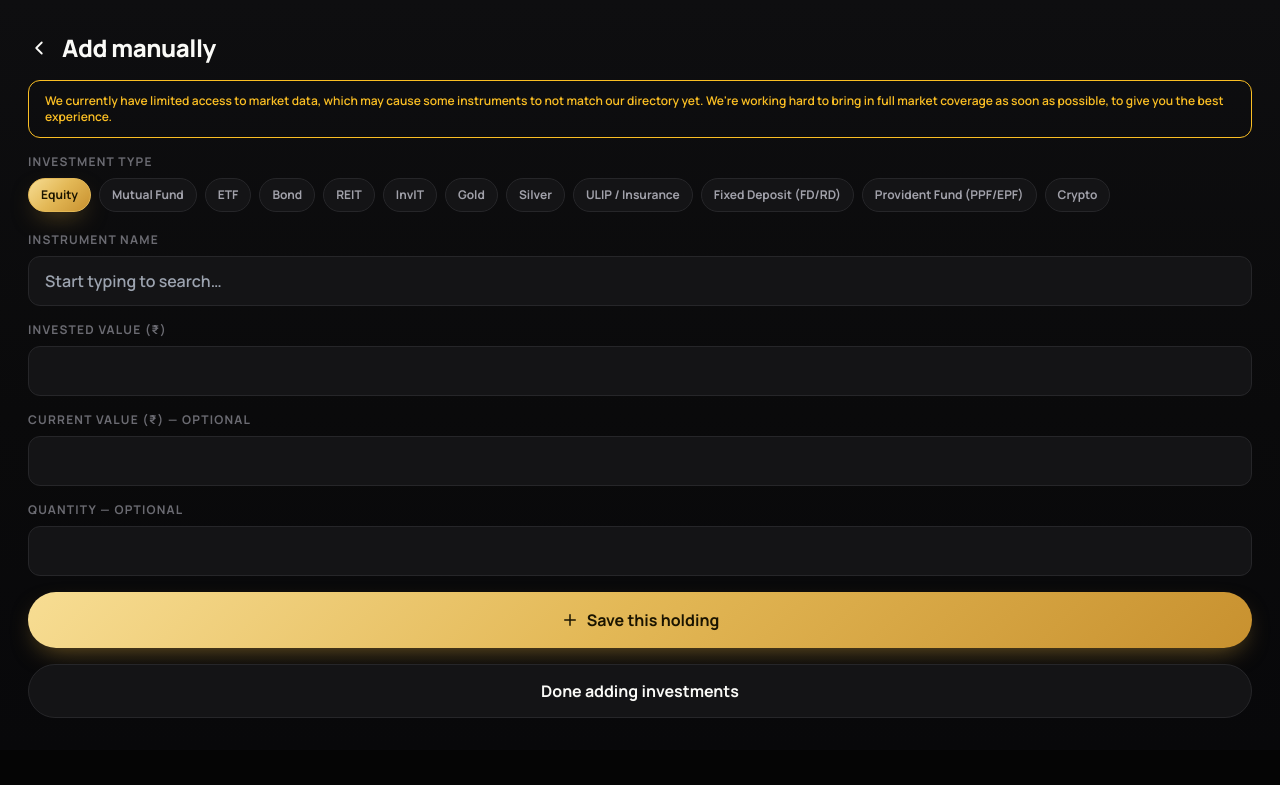
it: ManualEntry — PF (Provident Fund) › shows the PF asset-class option and switches to PF-specific fields when selected
The image size is (1280, 785).
Click the button with test id "asset-class-PF". click: (949, 195)
box: left=862, top=178, right=1036, bottom=212
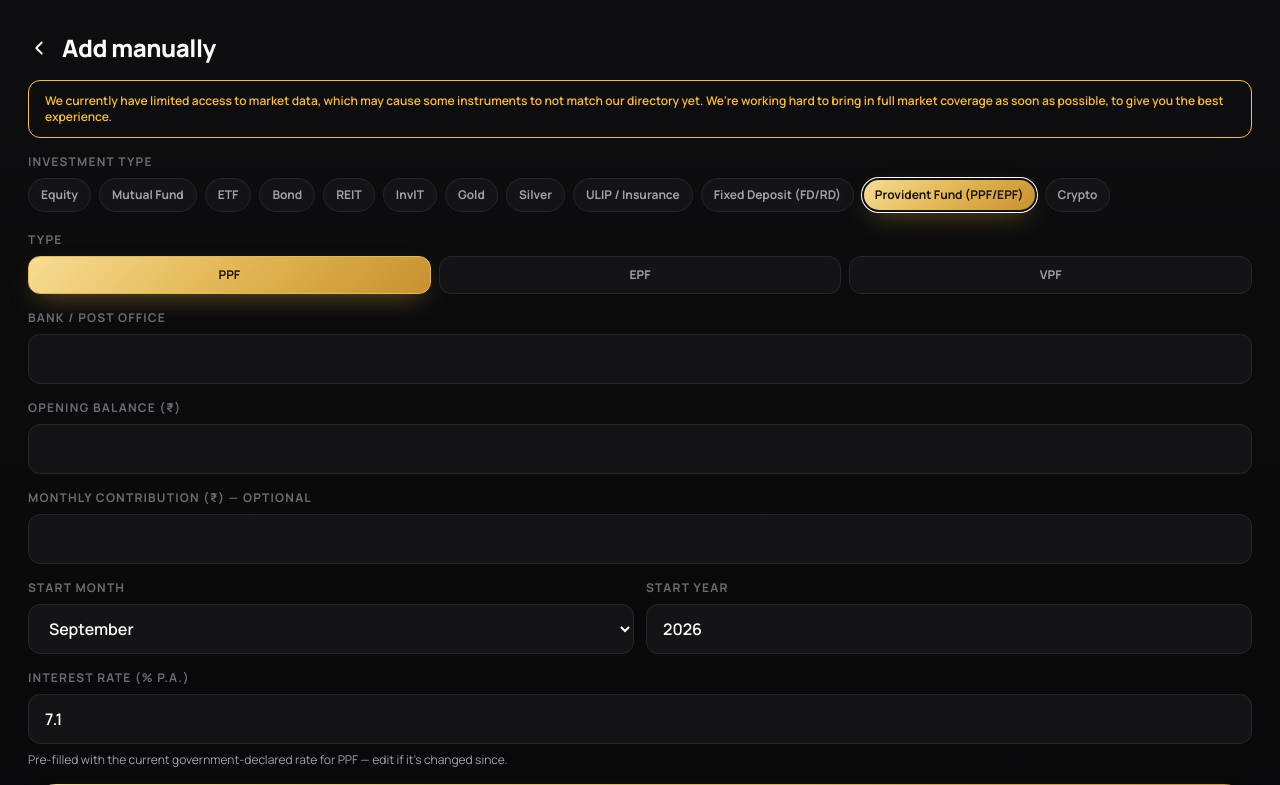
Result: the field with test id "pf-institution-input" is shown at left=28, top=334, right=1252, bottom=384
Result: the number field with test id "pf-opening-balance-input" is shown at left=28, top=424, right=1252, bottom=474
Result: the number field with test id "pf-rate-input" is shown at left=28, top=694, right=1252, bottom=744
